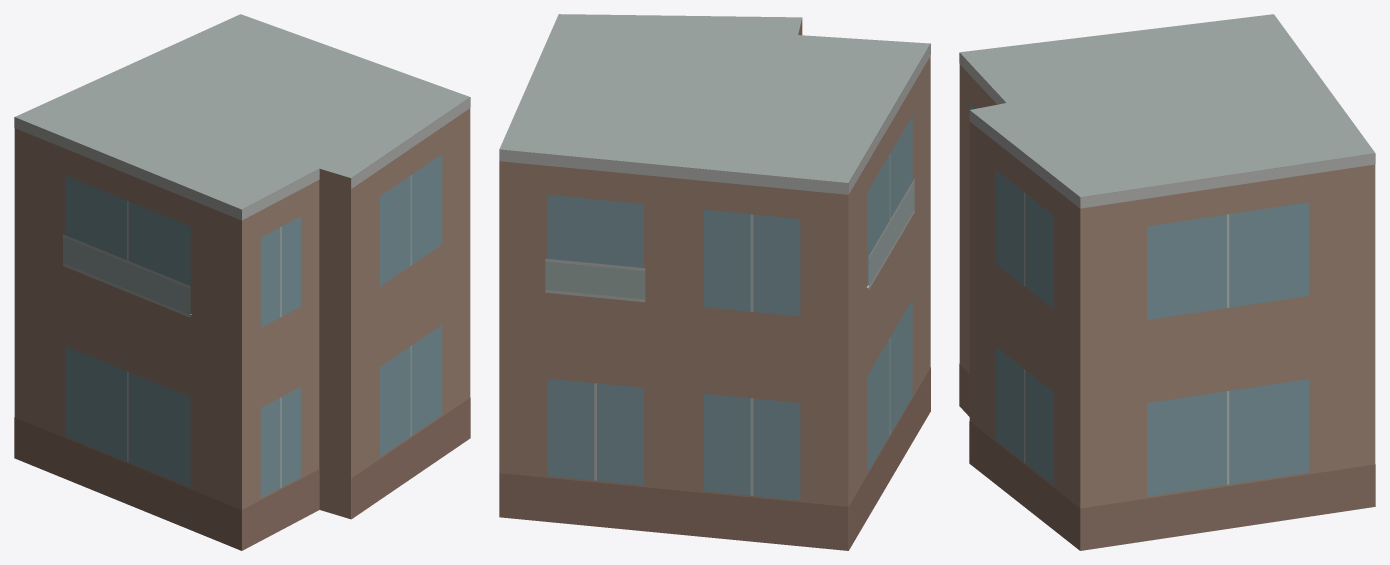
The model's file is survey-upis-32759477.glb.
The picture shows the model from 3 angles, left to right: view 1: azimuth 30°, elevation 25°; view 2: azimuth 150°, elevation 25°; view 3: azimuth 270°, elevation 25°; orthographic projection. The views are drawn at different scales.
Parts seen in each view (by area): view 1: survey-upis-32759477.tmp; view 2: survey-upis-32759477.tmp; view 3: survey-upis-32759477.tmp.
Part boxes in pixels (left/top/right/bottom): survey-upis-32759477.tmp: left=14, top=14, right=470, bottom=550; survey-upis-32759477.tmp: left=499, top=14, right=930, bottom=550; survey-upis-32759477.tmp: left=959, top=14, right=1375, bottom=550.
Size of the model in its own units: 8.46 by 7.6 by 8.11.
